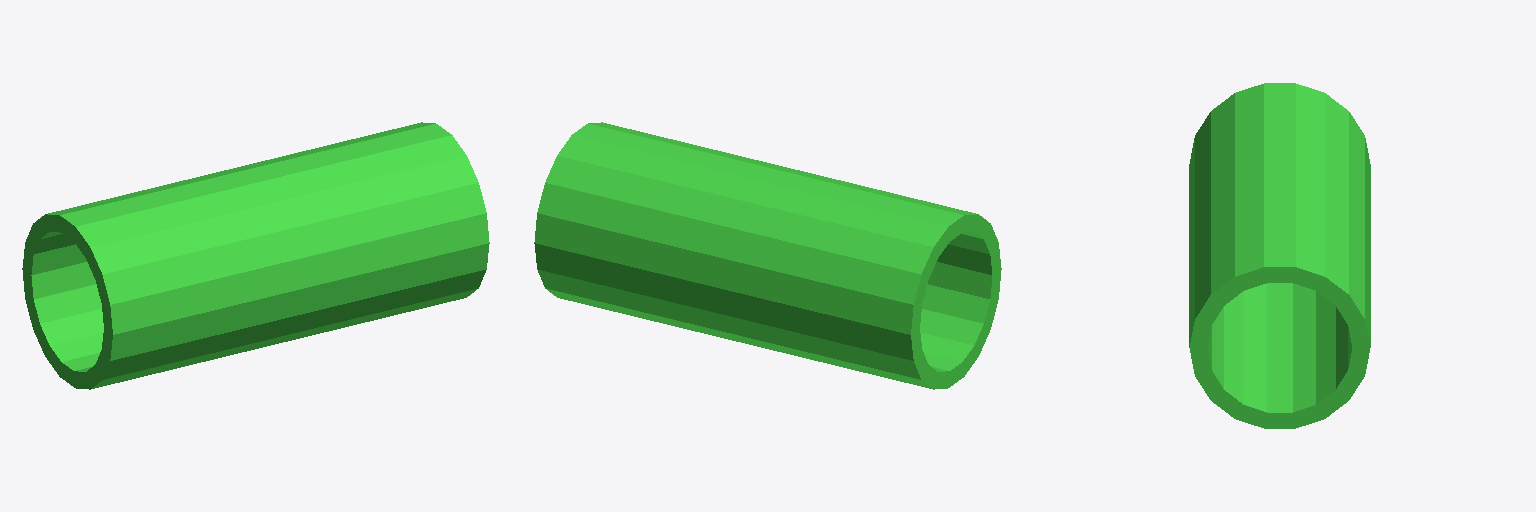
File: pipe.obj
3 renders of one model, left to right at view 1: azimuth 30°, elevation 25°; view 2: azimuth 150°, elevation 25°; view 3: azimuth 270°, elevation 25°, orthographic.
Visible parts, largest first — view 1: Tube001; view 2: Tube001; view 3: Tube001.
Boxes of the visible parts, x1=… form: Tube001: x1=22, y1=122, x2=489, y2=389; Tube001: x1=534, y1=122, x2=1001, y2=389; Tube001: x1=1189, y1=83, x2=1370, y2=428.
Size of the model in its own units: 60 by 24.62 by 25.